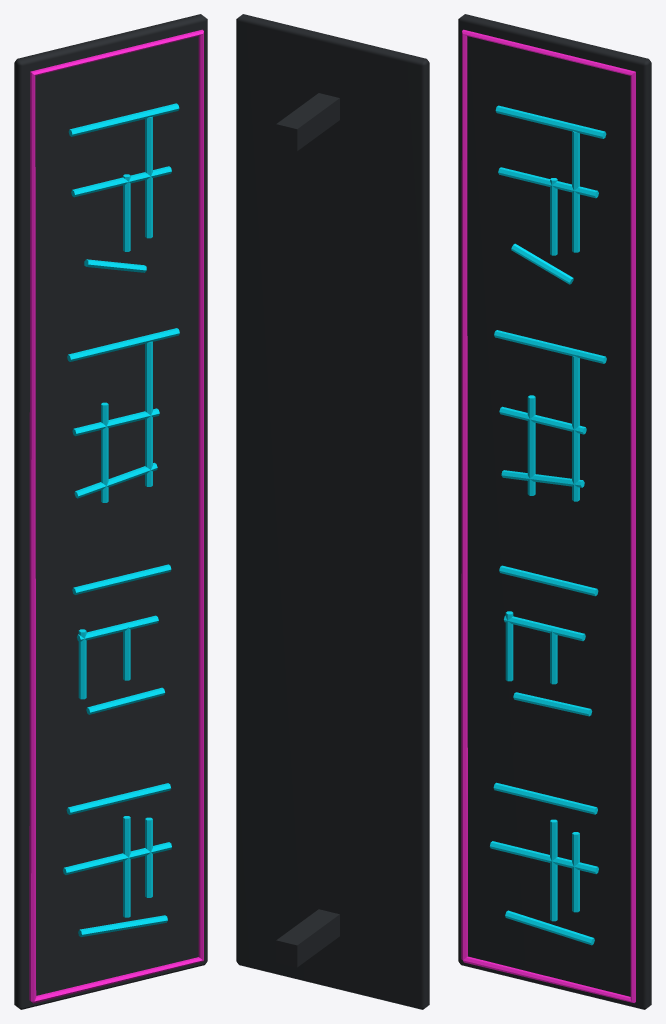
File: St_NeonColumn_A.fbx
3 renders of one model, left to right at view 1: azimuth 30°, elevation 25°; view 2: azimuth 150°, elevation 25°; view 3: azimuth 330°, elevation 25°, orthographic.
Visible parts, largest first — view 1: St_NeonColumn_A_LOD0; view 2: St_NeonColumn_A_LOD0; view 3: St_NeonColumn_A_LOD0.
Boxes of the visible parts, x1,y1,x2,y2 form: St_NeonColumn_A_LOD0: (14, 14, 207, 1009); St_NeonColumn_A_LOD0: (236, 14, 429, 1009); St_NeonColumn_A_LOD0: (458, 14, 651, 1009).
Size of what is drawn, in the model's own units: 0.9 by 4.3 by 0.466.
